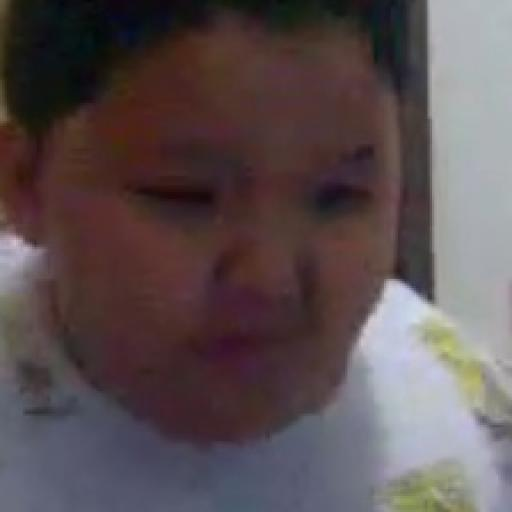Autism: (0, 0, 434, 467)
